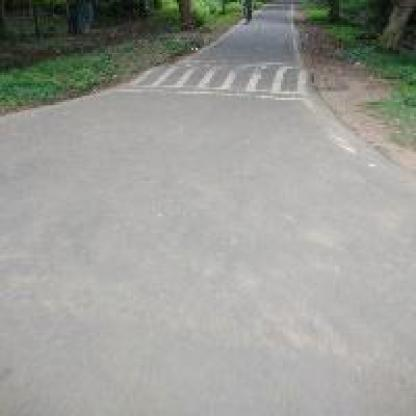Speed Bump: (120, 58, 302, 100)
